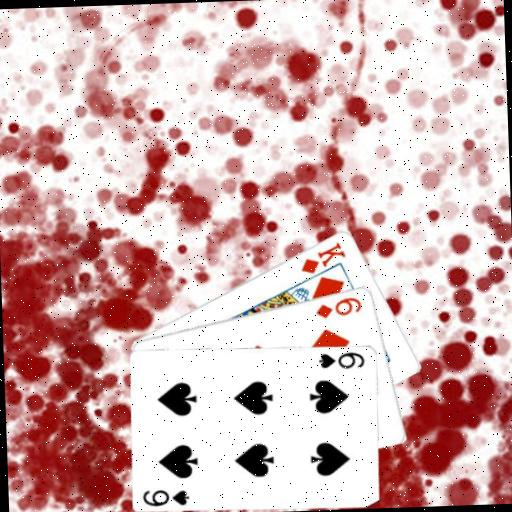6D: (313, 293, 364, 320)
6S: (315, 348, 366, 370), (140, 485, 191, 507)
KD: (296, 238, 348, 275)
